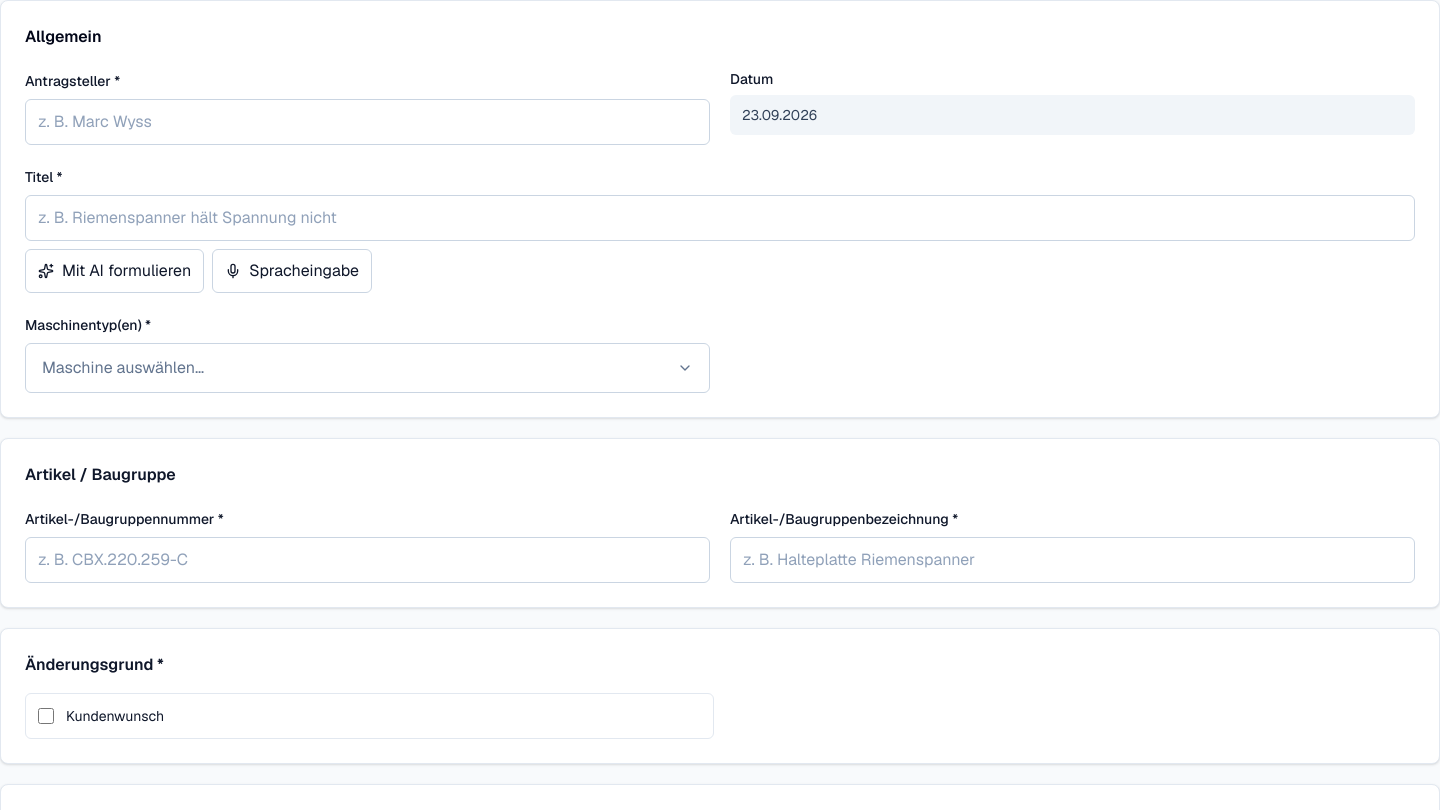
Fehlende Maschine nacherfassen › bietet das Anlegen an, wenn die Maschine wirklich neu ist
This screenshot has width=1440, height=810.
Click the button "Maschine auswählen…" at (123, 368), box [34,352,701,384]
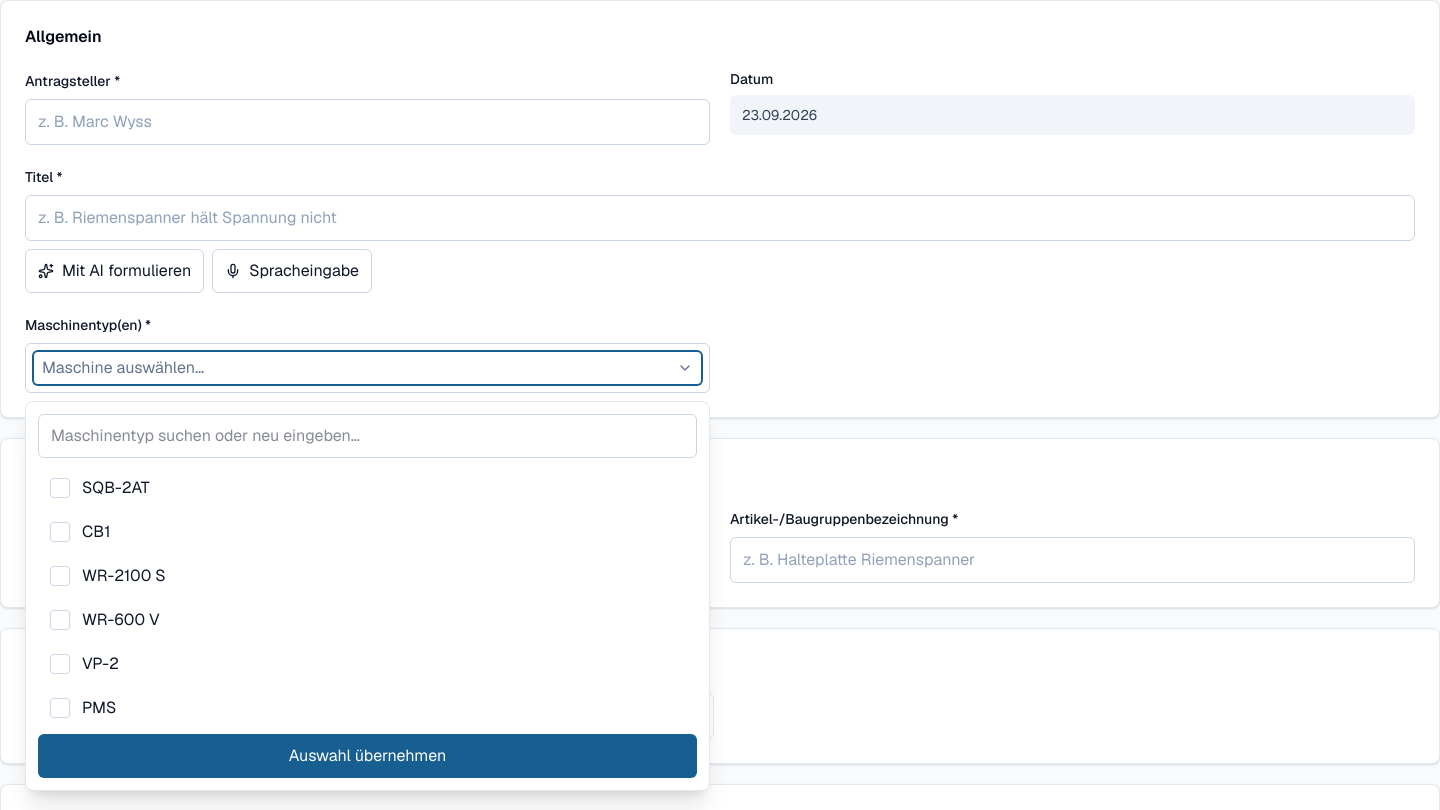
Type "wr-3000" into the field labelled "Maschinentyp suchen oder neu eingeben…" at (368, 436), box [38,414,697,458]
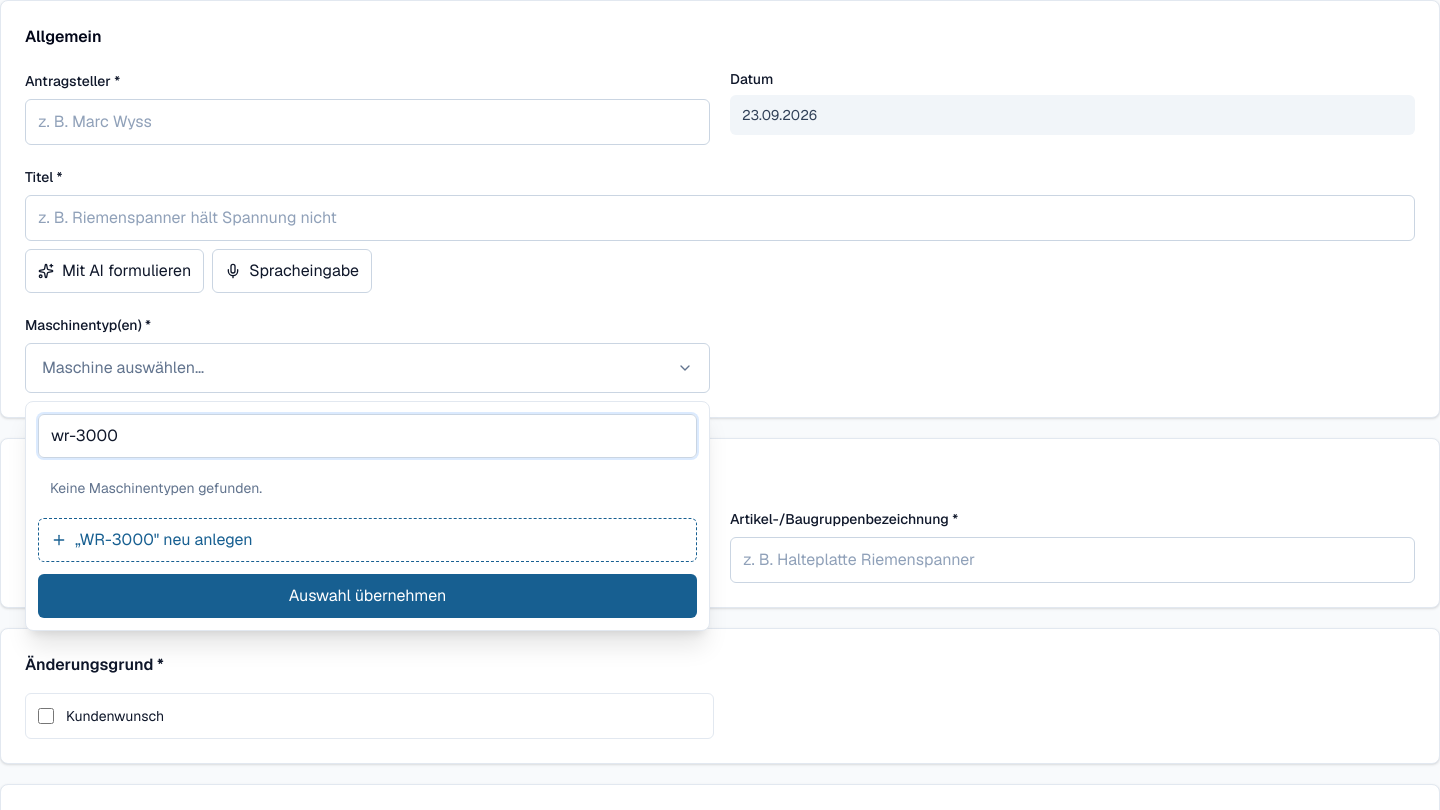
Click the button "„WR-3000\" neu anlegen" at (164, 540), box [38,518,697,562]
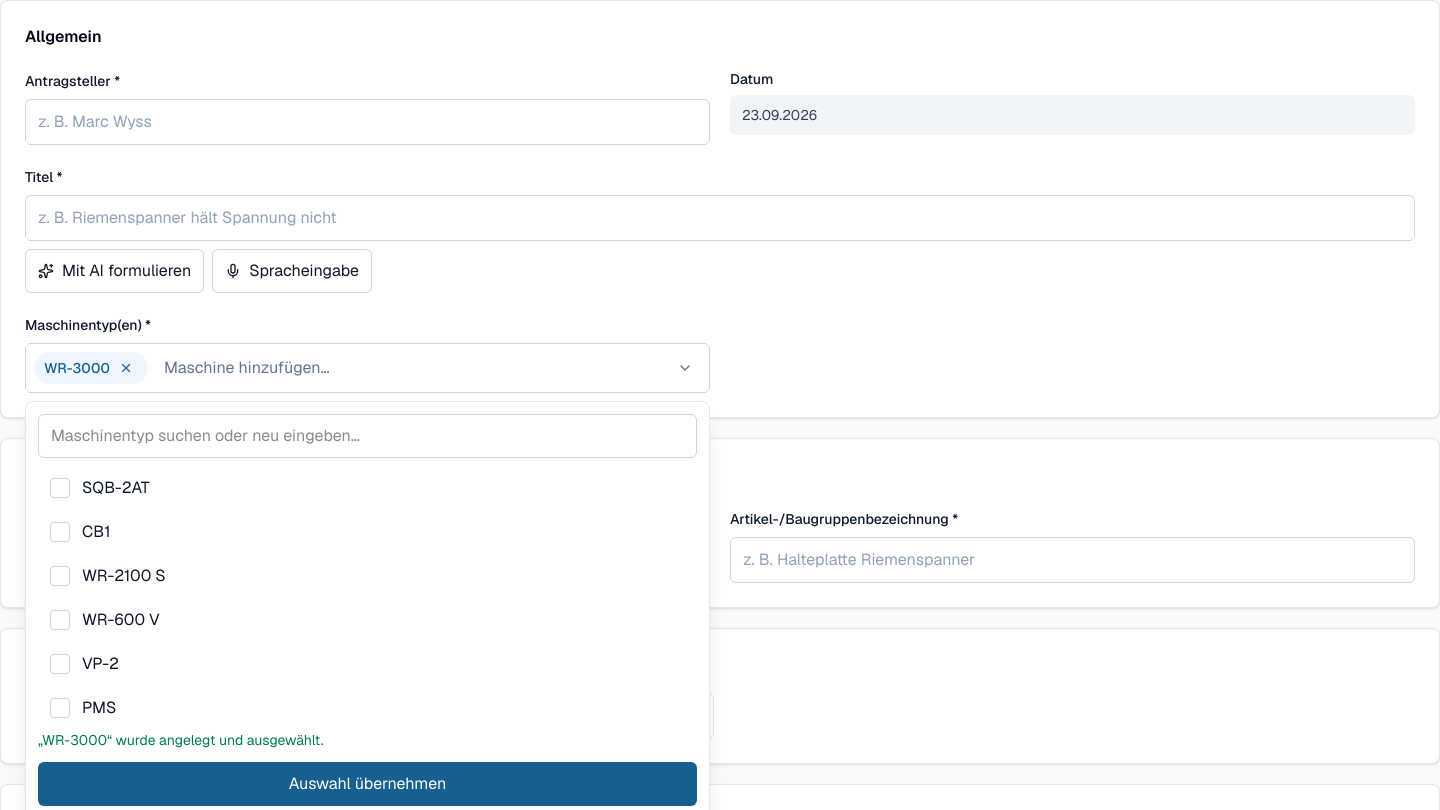
Check: the text "„WR-3000“ wurde angelegt und ausgewählt." is shown, box [38,731,324,749]
Check: the button named "WR-3000 entfernen" is shown, box [114,356,138,380]
